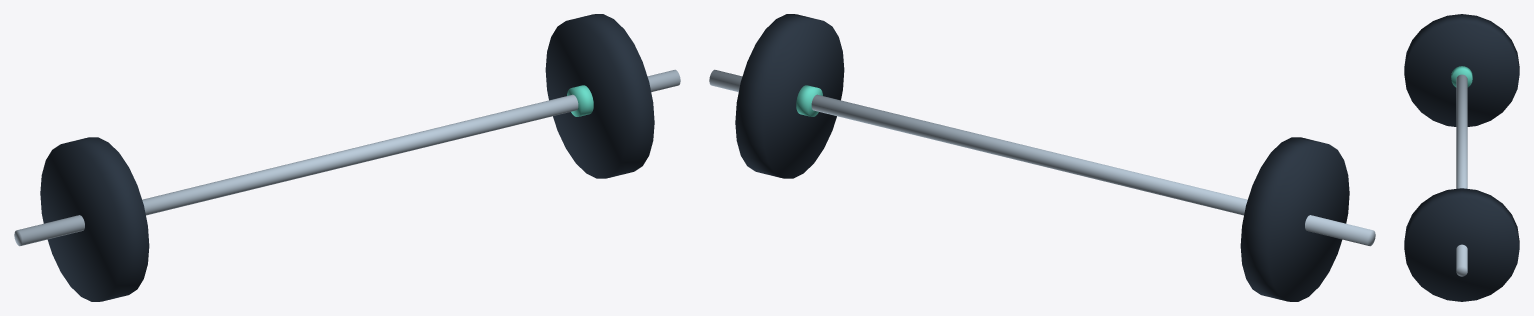
The model's file is barbell.glb.
3 views of the same model, side by side, from view 1: azimuth 30°, elevation 25°; view 2: azimuth 150°, elevation 25°; view 3: azimuth 270°, elevation 25° (orthographic). The views are drawn at different scales.
Parts seen in each view (by area): view 1: barbell_plates, barbell_shaft, barbell_collars; view 2: barbell_plates, barbell_shaft, barbell_collars; view 3: barbell_plates, barbell_shaft, barbell_collars.
Part boxes in pixels (bbox=[...]): barbell_plates: bbox=[40, 14, 654, 301]; barbell_shaft: bbox=[14, 69, 680, 246]; barbell_collars: bbox=[567, 85, 593, 116]; barbell_plates: bbox=[735, 14, 1349, 301]; barbell_shaft: bbox=[709, 69, 1375, 246]; barbell_collars: bbox=[796, 85, 822, 116]; barbell_plates: bbox=[1404, 14, 1519, 301]; barbell_shaft: bbox=[1456, 74, 1467, 276]; barbell_collars: bbox=[1451, 66, 1472, 87].
Bounding box in the file's own units: 1.12 × 0.24 × 0.24.
